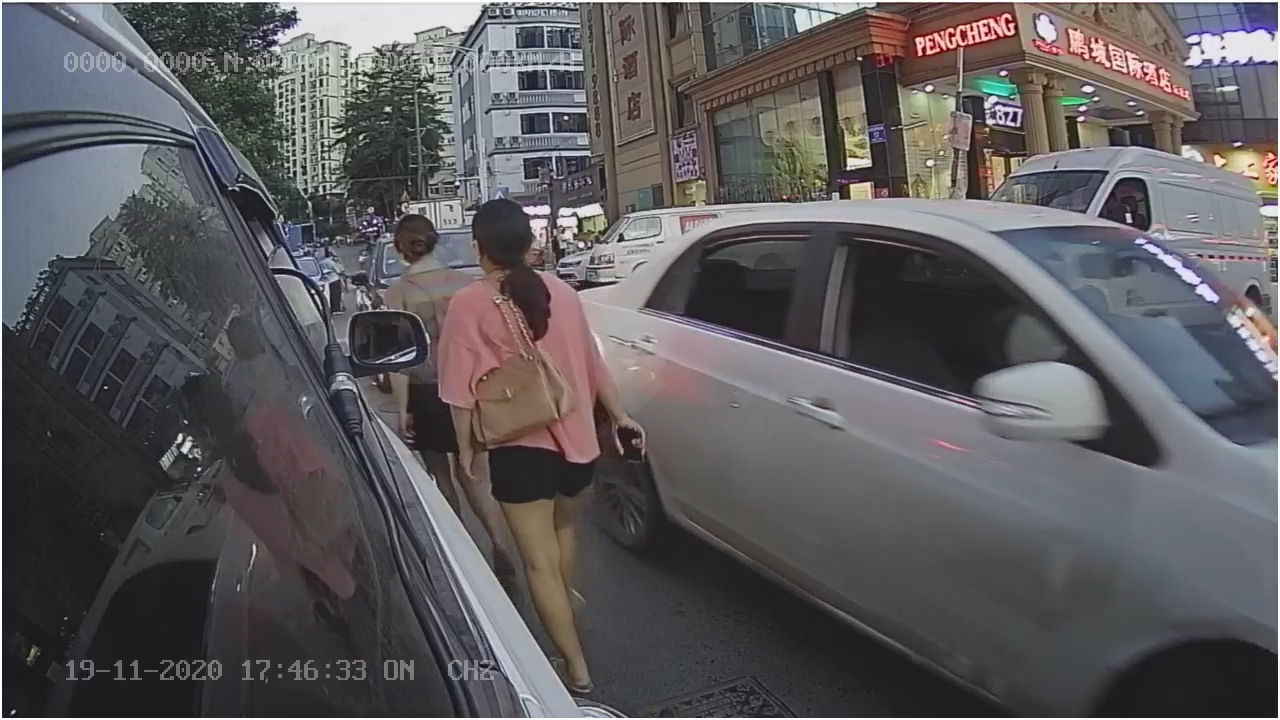person: (442, 208, 612, 504)
